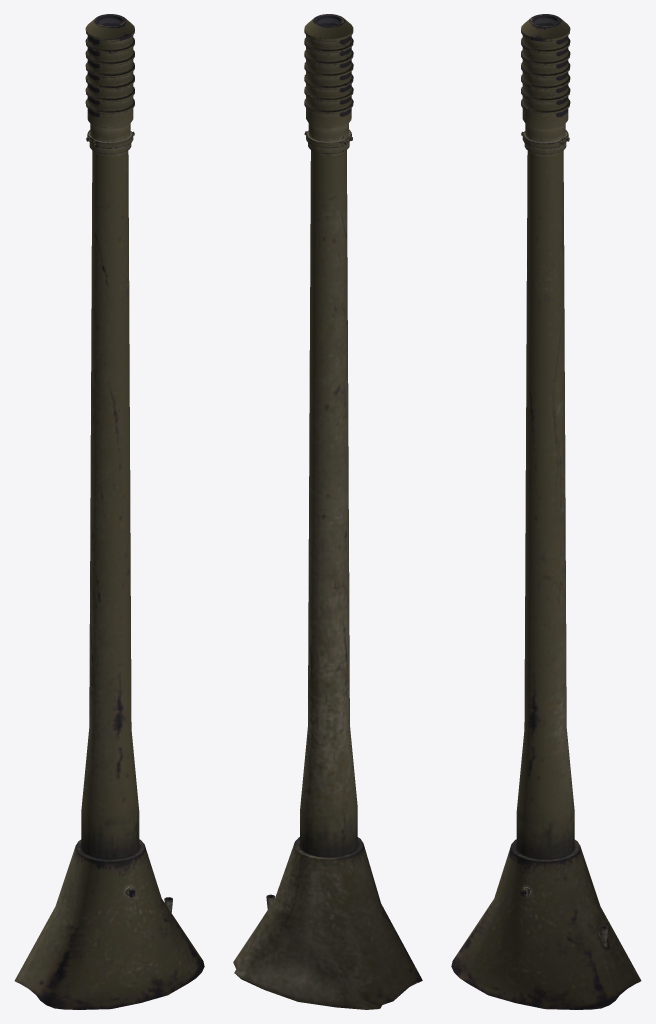
The model's file is Gun_03.glb.
3 renders of one model, left to right at view 1: azimuth 30°, elevation 25°; view 2: azimuth 150°, elevation 25°; view 3: azimuth 330°, elevation 25°, orthographic.
Visible parts, largest first — view 1: set_0_group_0; view 2: set_0_group_0; view 3: set_0_group_0.
Boxes of the visible parts, left/top/right/bottom form: set_0_group_0: left=14, top=14, right=204, bottom=1009; set_0_group_0: left=233, top=14, right=422, bottom=1009; set_0_group_0: left=451, top=14, right=641, bottom=1009.
Size of the model in its own units: 0.8437 by 4.74 by 0.5489.
Materials: 1 (1 with a texture image).
